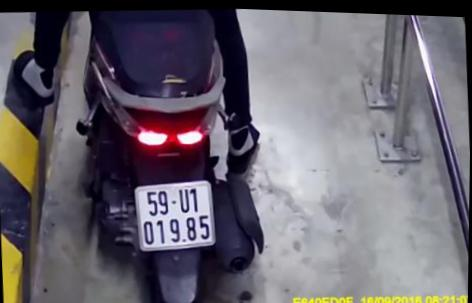LP: (133, 175, 219, 254)
